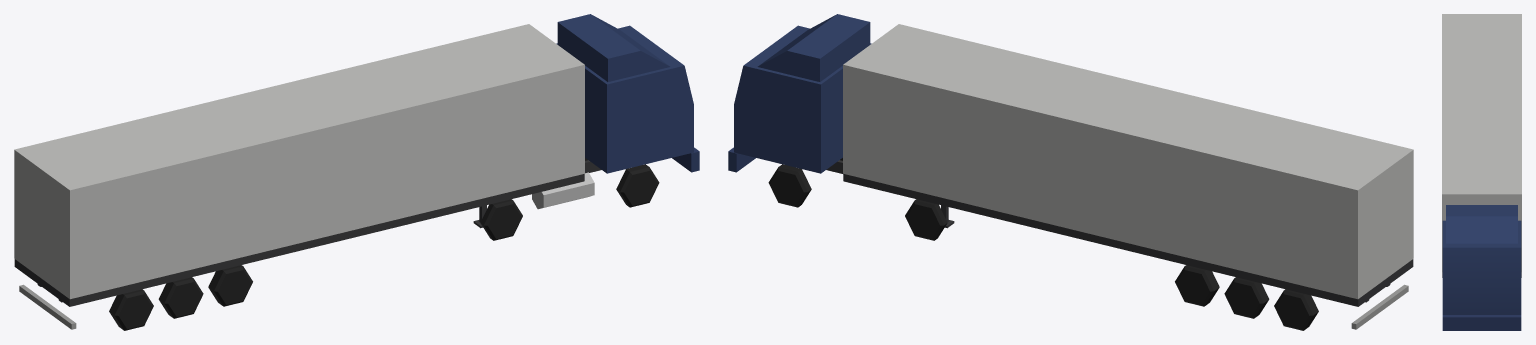
File: SM_Prop_services_lorry_5_LOD2.glb
3 renders of one model, left to right at view 1: azimuth 30°, elevation 25°; view 2: azimuth 150°, elevation 25°; view 3: azimuth 270°, elevation 25°, orthographic. The views are drawn at different scales.
Parts seen in each view (by area): view 1: SM_Prop_services_lorry_5_LOD2; view 2: SM_Prop_services_lorry_5_LOD2; view 3: SM_Prop_services_lorry_5_LOD2.
Part boxes in pixels (x1,y1,x2,y2): SM_Prop_services_lorry_5_LOD2: (14, 14, 699, 330); SM_Prop_services_lorry_5_LOD2: (728, 14, 1413, 330); SM_Prop_services_lorry_5_LOD2: (1442, 14, 1521, 330).
Size of the model in its own units: 16.65 by 3.93 by 2.55.
